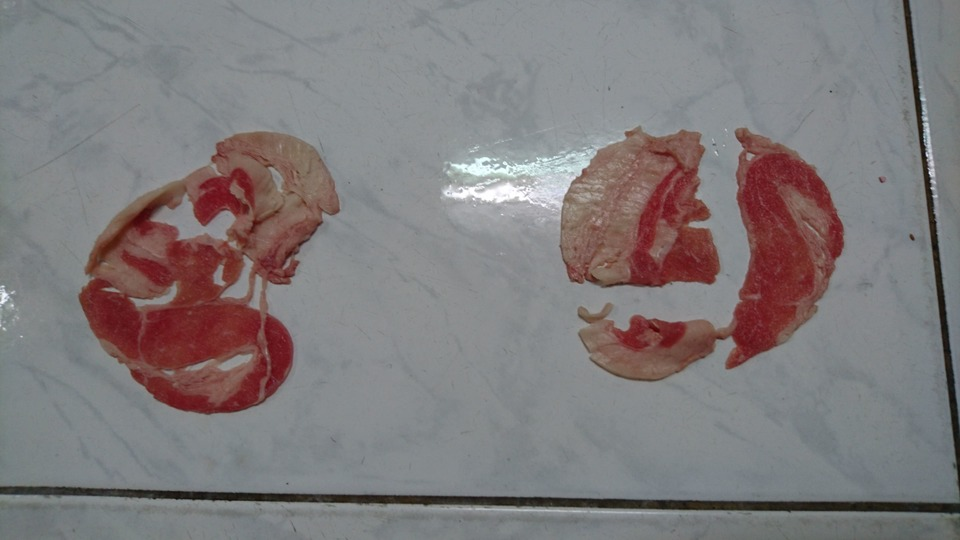restructured meat: (76, 130, 339, 412), (561, 119, 845, 377)
